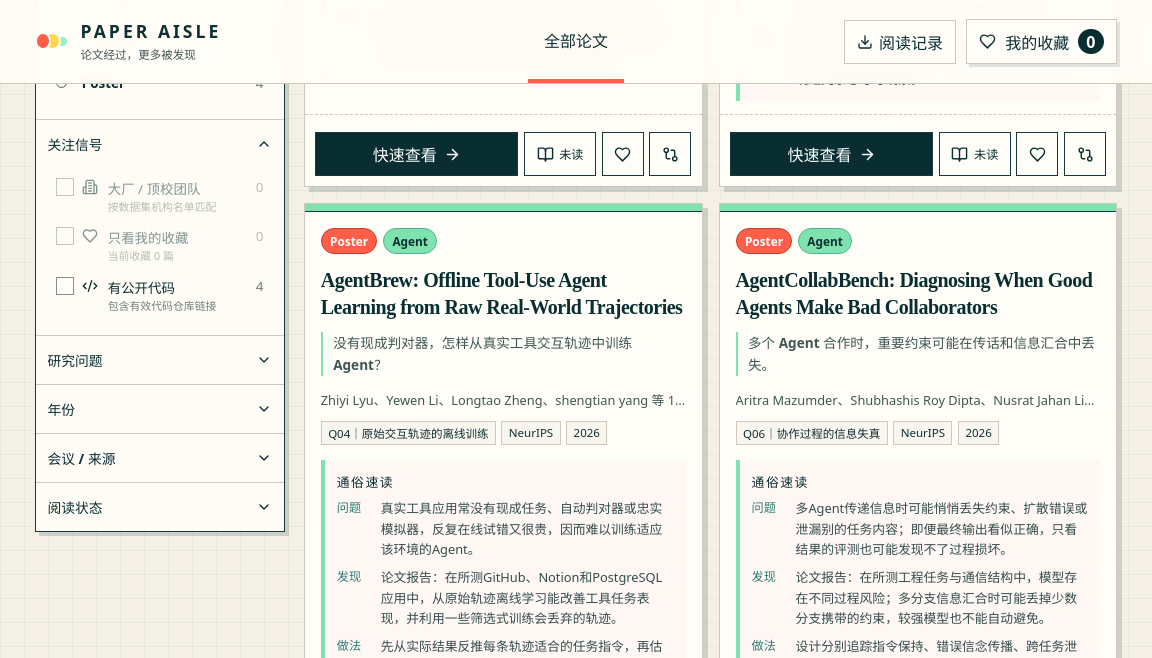
research dataset integration › filters by research question and shows abstract content in the drawer without fulltext fields
The width and height of the screenshot is (1152, 658).
(page scrolled)
Click the button with aria-label "展开研究问题": click(160, 360) [36,336,284,384]
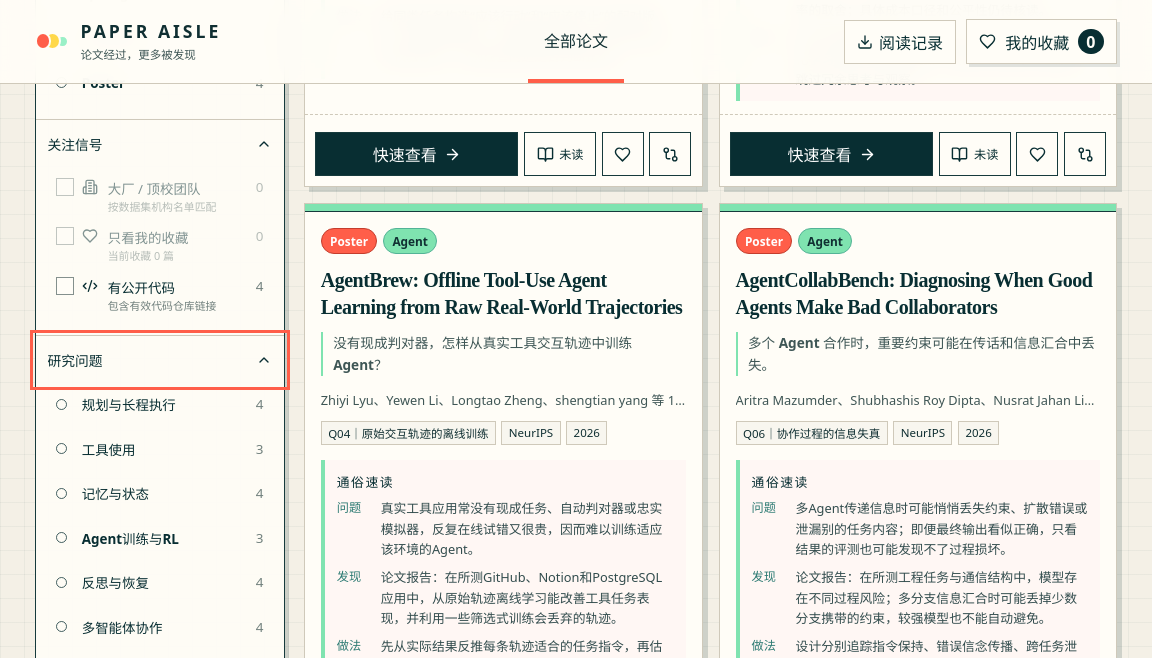
Click the checkbox labelled "记忆与状态 4": click(115, 494) [82,484,263,503]
(page scrolled)
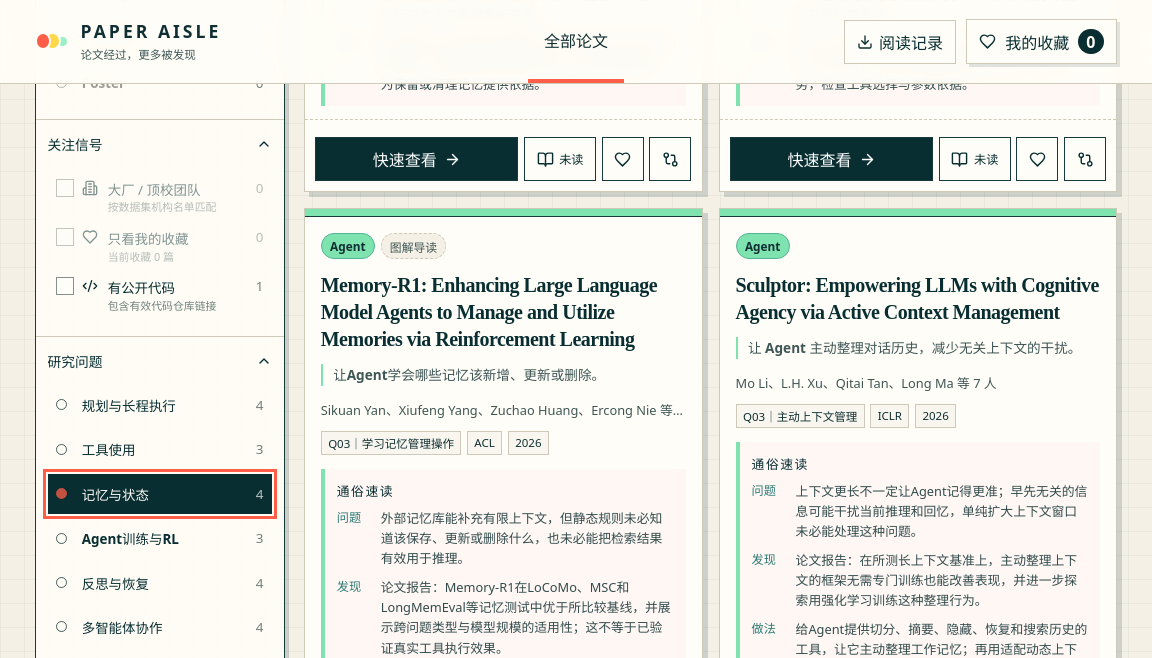
Click the button "Sculptor: Empowering LLMs with Cognitive Agency via Active Context Management": click(918, 299) [736,272,1100,326]
(page scrolled)
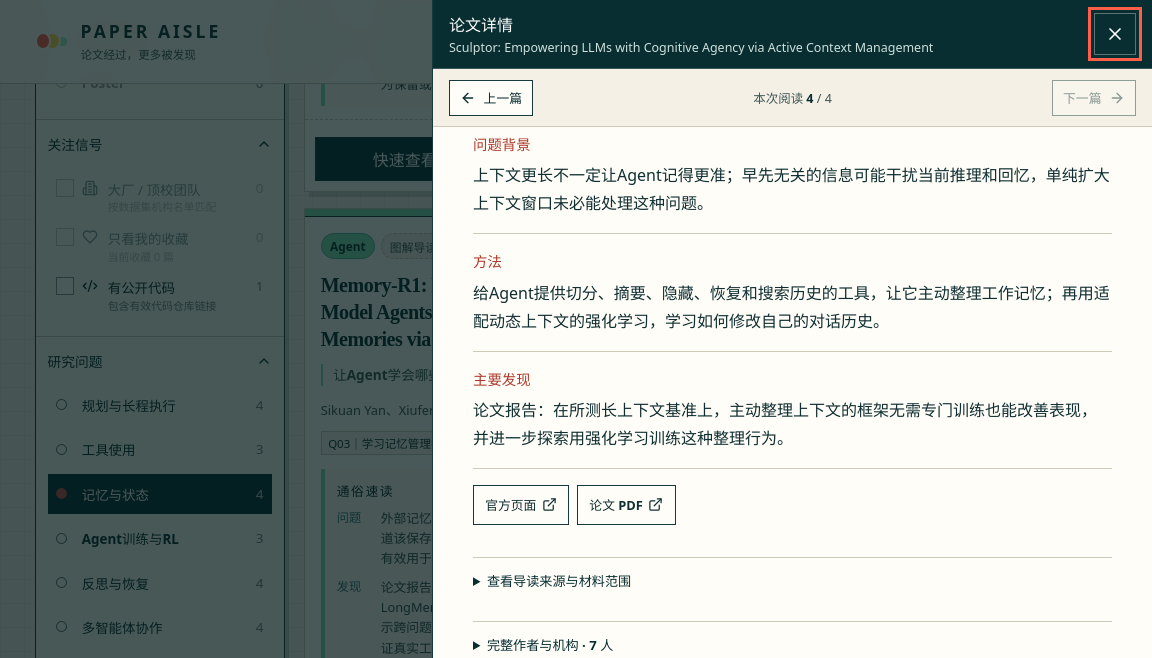
Check: the text "给Agent提供切分" is shown, box [473,282,1110,332]
Check: the text "论文报告：在所测长上下文基准上，主动整理上下文的框架无需专门训练也能改善表现，并进一步探索用强化学习训练这种整理行为。" is shown, box [473,396,1112,452]
